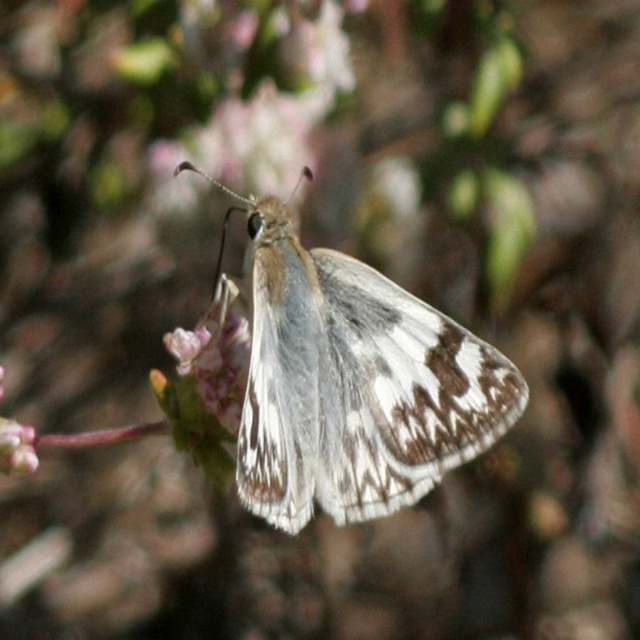Butterfly: (173, 143, 519, 521)
